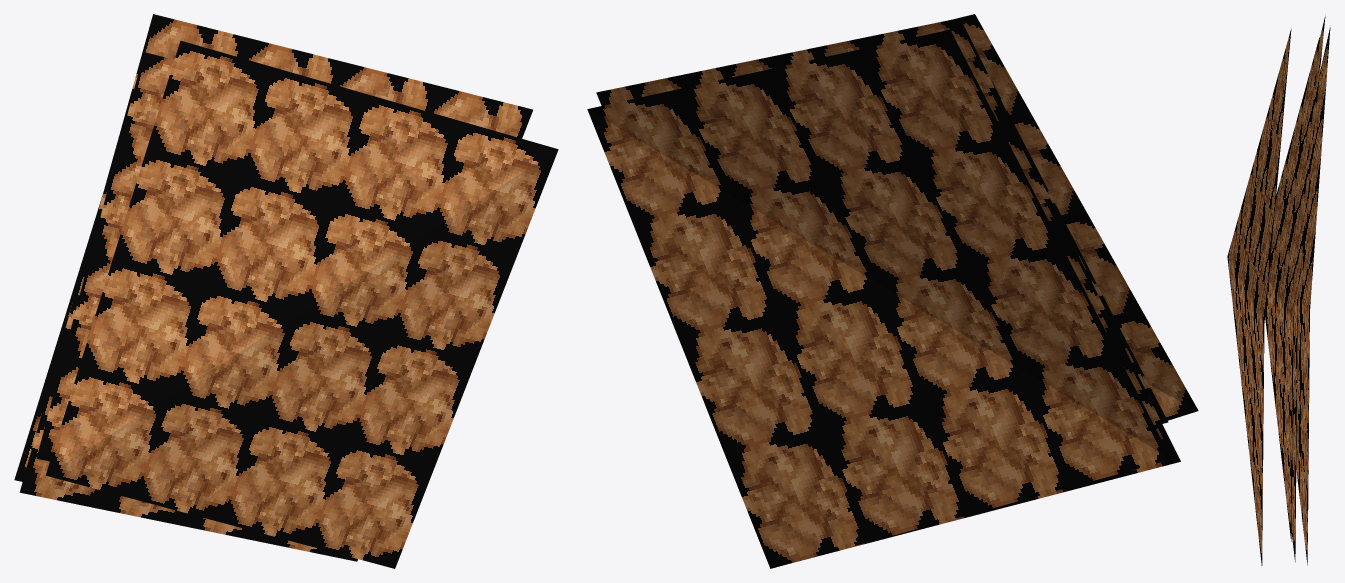
Rendered from 1371item2761r.gltf.
3 renders of one model, left to right at view 1: azimuth 30°, elevation 25°; view 2: azimuth 150°, elevation 25°; view 3: azimuth 270°, elevation 25°, orthographic. The views are drawn at different scales.
Visible parts, largest first — view 1: 1371item2761r; view 2: 1371item2761r; view 3: 1371item2761r.
Boxes of the visible parts, x1,y1,x2,y2 form: 1371item2761r: (14, 14, 558, 568); 1371item2761r: (587, 14, 1198, 568); 1371item2761r: (1227, 16, 1330, 565).
Bounding box in the file's own units: 0.2646 × 0.2713 × 0.0533.
1 material, 1 textured.
